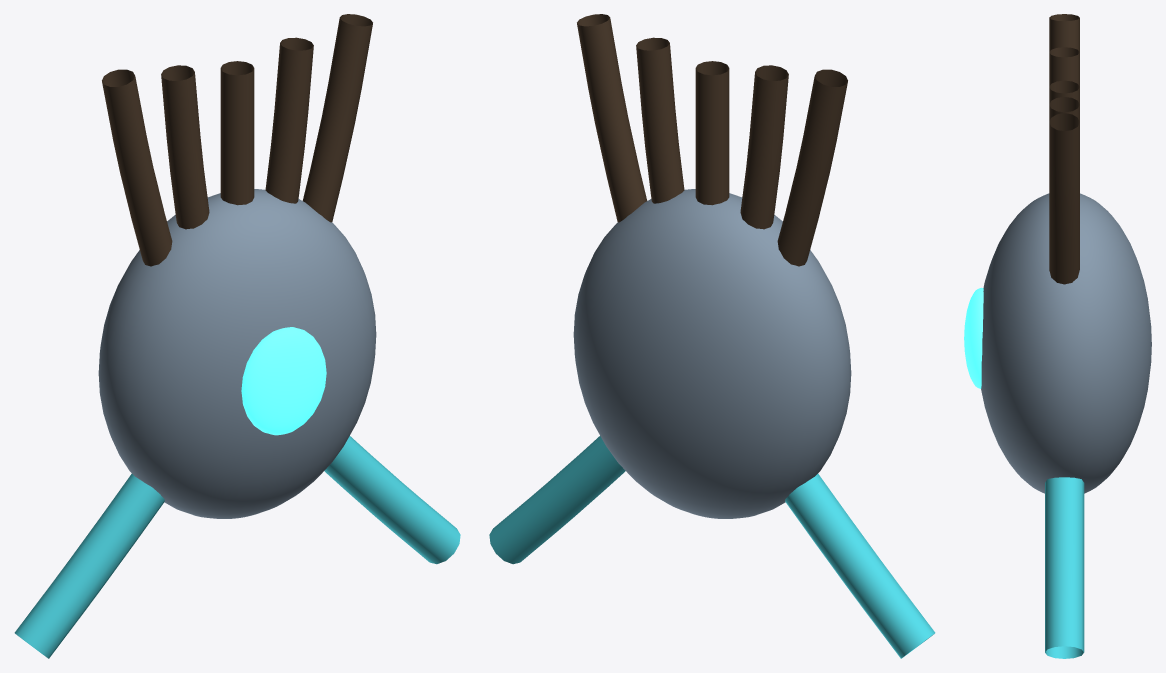
Rendered from aberration_v7.glb.
3 renders of one model, left to right at view 1: azimuth 30°, elevation 25°; view 2: azimuth 150°, elevation 25°; view 3: azimuth 270°, elevation 25°, orthographic. The views are drawn at different scales.
Visible parts, largest first — view 1: PALM_BODY_PRIMARY, HAND_LEG_ACCENT, PALM_EYE_EMISSIVE, HAND_FINGER_SECONDARY.004, HAND_FINGER_SECONDARY, HAND_LEG_ACCENT.001, HAND_FINGER_SECONDARY.003, HAND_FINGER_SECONDARY.001, HAND_FINGER_SECONDARY.002; view 2: PALM_BODY_PRIMARY, HAND_LEG_ACCENT, HAND_FINGER_SECONDARY.004, HAND_FINGER_SECONDARY, HAND_LEG_ACCENT.001, HAND_FINGER_SECONDARY.003, HAND_FINGER_SECONDARY.001, HAND_FINGER_SECONDARY.002; view 3: PALM_BODY_PRIMARY, HAND_LEG_ACCENT.001, HAND_FINGER_SECONDARY.004, PALM_EYE_EMISSIVE, HAND_FINGER_SECONDARY.001, HAND_FINGER_SECONDARY, HAND_FINGER_SECONDARY.003, HAND_FINGER_SECONDARY.002.
Part boxes in pixels (x1=…): PALM_BODY_PRIMARY: x1=98, y1=189, x2=376, y2=518; HAND_LEG_ACCENT: x1=14, y1=473, x2=164, y2=658; PALM_EYE_EMISSIVE: x1=241, y1=327, x2=326, y2=435; HAND_FINGER_SECONDARY.004: x1=302, y1=14, x2=372, y2=222; HAND_FINGER_SECONDARY: x1=102, y1=69, x2=172, y2=266; HAND_LEG_ACCENT.001: x1=324, y1=436, x2=460, y2=564; HAND_FINGER_SECONDARY.003: x1=265, y1=37, x2=313, y2=203; HAND_FINGER_SECONDARY.001: x1=161, y1=65, x2=209, y2=229; HAND_FINGER_SECONDARY.002: x1=220, y1=61, x2=254, y2=205; PALM_BODY_PRIMARY: x1=573, y1=189, x2=851, y2=518; HAND_LEG_ACCENT: x1=785, y1=473, x2=935, y2=658; HAND_FINGER_SECONDARY.004: x1=577, y1=14, x2=647, y2=222; HAND_FINGER_SECONDARY: x1=777, y1=69, x2=847, y2=266; HAND_LEG_ACCENT.001: x1=489, y1=436, x2=625, y2=564; HAND_FINGER_SECONDARY.003: x1=636, y1=37, x2=684, y2=203; HAND_FINGER_SECONDARY.001: x1=740, y1=65, x2=788, y2=229; HAND_FINGER_SECONDARY.002: x1=695, y1=61, x2=729, y2=205; PALM_BODY_PRIMARY: x1=981, y1=193, x2=1151, y2=493; HAND_LEG_ACCENT.001: x1=1045, y1=477, x2=1084, y2=658; HAND_FINGER_SECONDARY.004: x1=1049, y1=113, x2=1079, y2=284; PALM_EYE_EMISSIVE: x1=964, y1=287, x2=983, y2=388; HAND_FINGER_SECONDARY.001: x1=1049, y1=47, x2=1079, y2=86; HAND_FINGER_SECONDARY: x1=1049, y1=14, x2=1079, y2=51; HAND_FINGER_SECONDARY.003: x1=1049, y1=97, x2=1079, y2=121; HAND_FINGER_SECONDARY.002: x1=1049, y1=80, x2=1079, y2=104.
Size of the model in its own units: 2.09 by 2.56 by 0.86.
